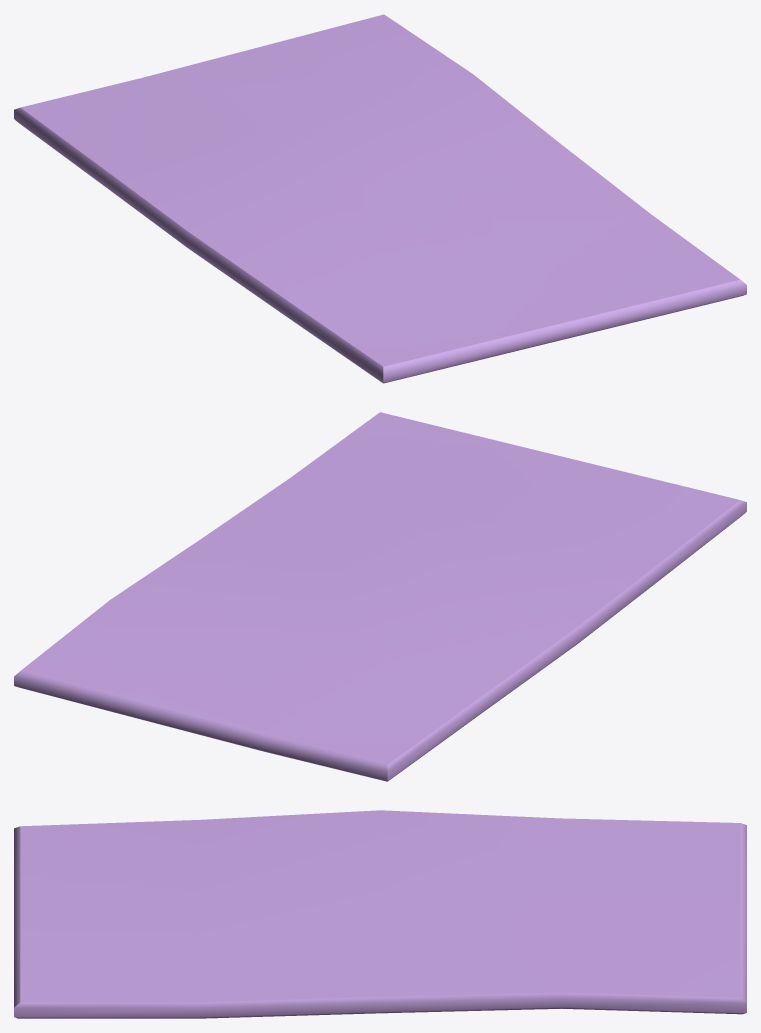
The model's file is Friday_Letter_V4.fbx.
The picture shows the model from 3 angles, top to bottom: view 1: azimuth 30°, elevation 25°; view 2: azimuth 150°, elevation 25°; view 3: azimuth 270°, elevation 25°; orthographic projection.
Parts seen in each view (by area): view 1: Letter; view 2: Letter; view 3: Letter.
Part boxes in pixels (left/top/right/bottom): Letter: left=14, top=14, right=746, bottom=383; Letter: left=14, top=412, right=746, bottom=781; Letter: left=14, top=810, right=746, bottom=1018.
Size of the model in its own units: 37.55 by 2.7 by 62.17.
